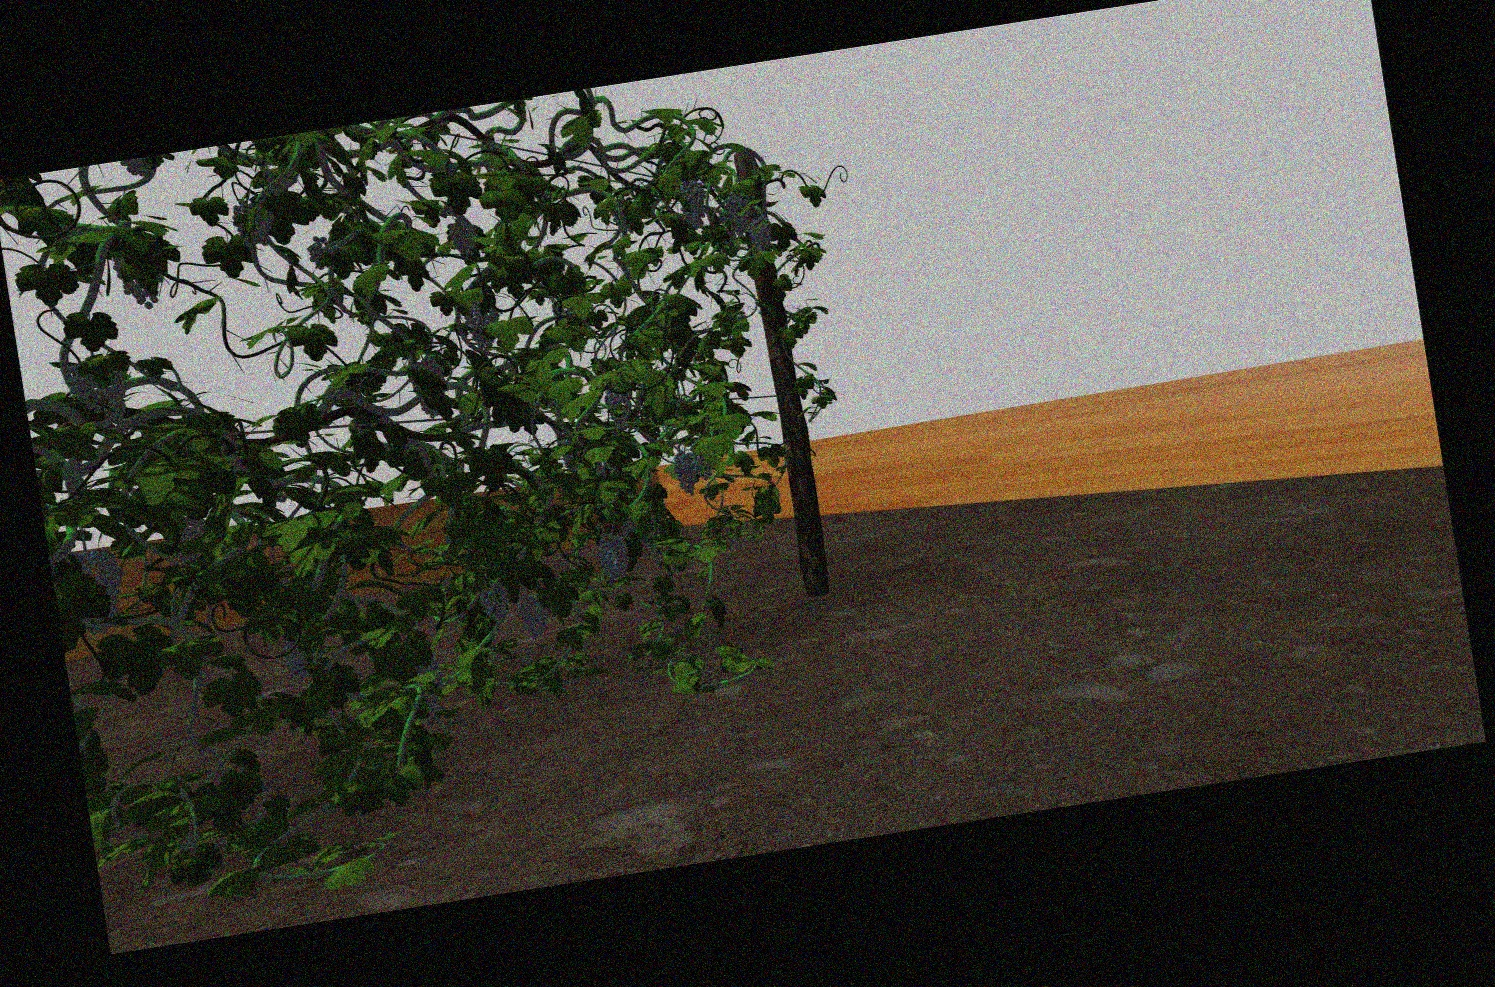grape: (77, 549, 127, 633), (73, 364, 132, 423), (232, 200, 274, 245), (467, 299, 501, 352), (283, 638, 322, 683), (598, 530, 628, 586), (518, 592, 549, 641), (418, 663, 445, 717), (678, 176, 706, 228), (479, 579, 510, 626), (674, 449, 703, 496), (605, 382, 633, 427), (449, 214, 478, 254), (307, 234, 338, 269), (727, 192, 752, 234), (750, 220, 772, 254)
